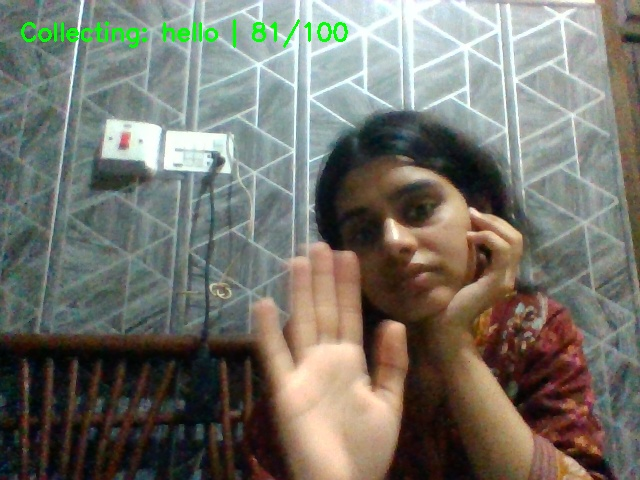hello: (239, 231, 419, 480)
